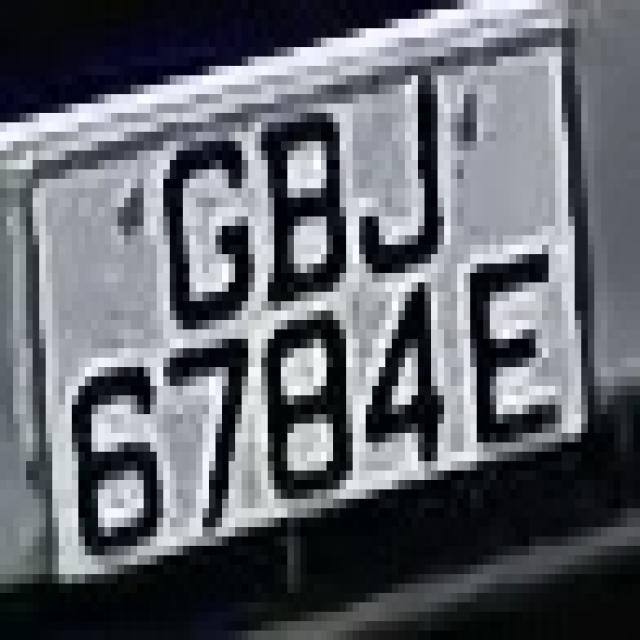4: (340, 245, 470, 489)
6: (66, 311, 176, 584)
7: (150, 301, 261, 537)
8: (261, 301, 372, 537)
B: (248, 113, 379, 329)
E: (457, 217, 575, 461)
G: (137, 94, 268, 377)
J: (366, 56, 476, 273)
